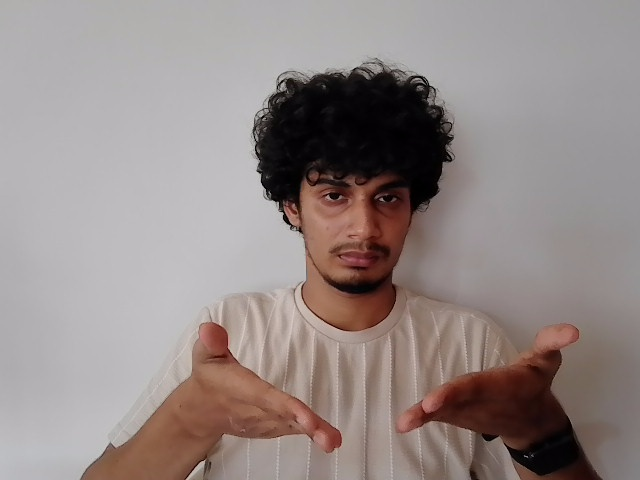here: (188, 319, 585, 443)
